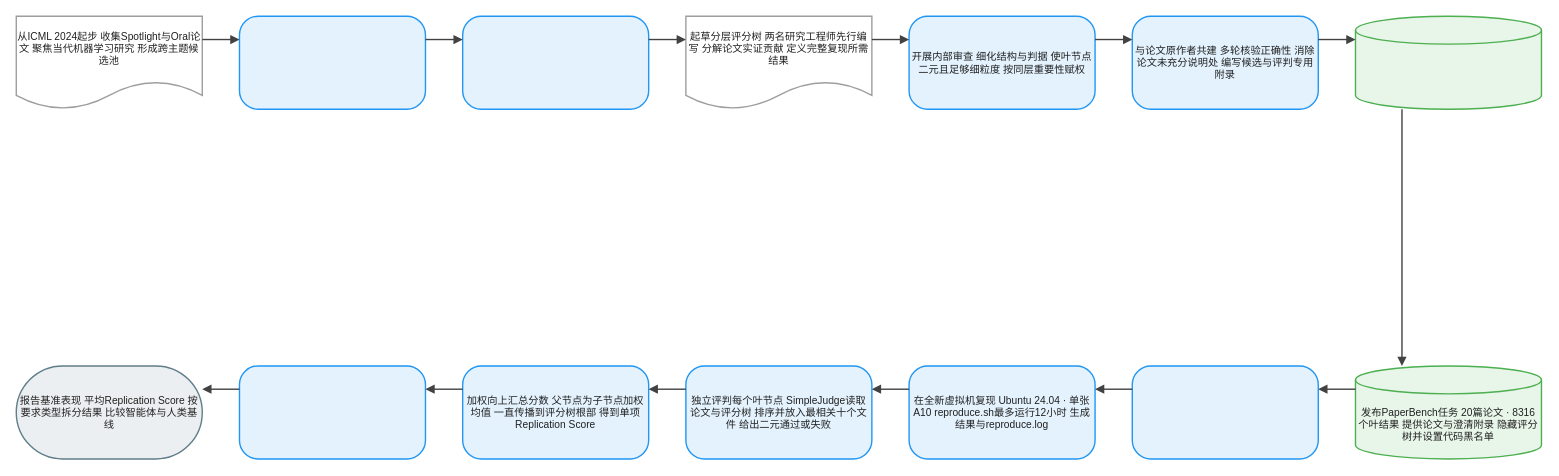
Image size: 1559x476. Some labels were removed from this diagram. The shapes that lost their labels are listed below. From the top down, each one's centre as x and y in pixels, then its label:
[332,62]: 应用适配性筛选 需有实证且单机可运行 不依赖闭源模型或新人工数据 方法细节与依赖可获取
[555,62]: 阅读论文并招募作者 随机检查筛选后论文 联系42位原论文作者 确定20篇并覆盖12个主题
[1448,62]: 定稿分层评分树 结果匹配 · 执行 代码开发三类叶节点 原作者核验并签字确认
[332,412]: 用JudgeEval验证评判器 五篇论文的部分复现提交 人类专家叶标签作为金标准 宏平均二元指标 · F1为0.83
[1225,412]: 智能体从零复现 理解论文实证贡献 开发并排查实验 提交含reproduce.sh的仓库
